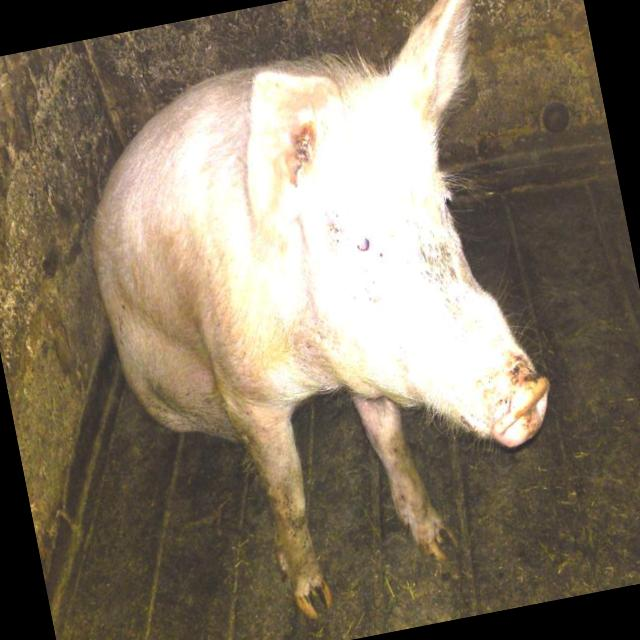pig: (94, 0, 548, 617)
